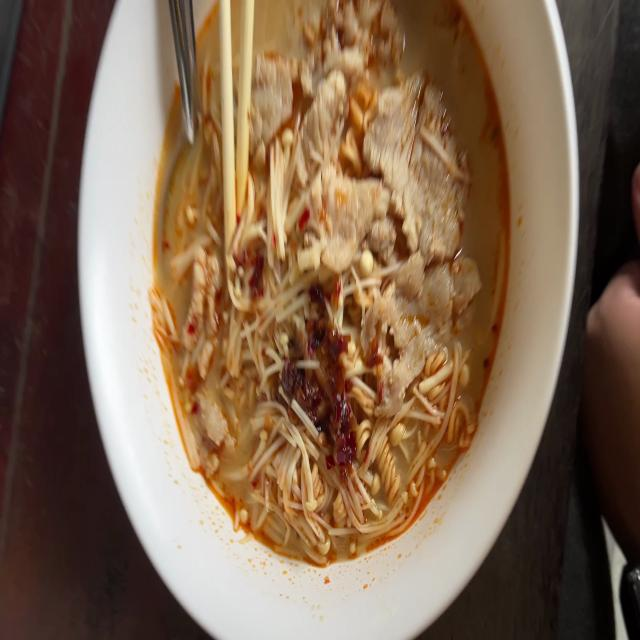noodle: (136, 0, 520, 576)
